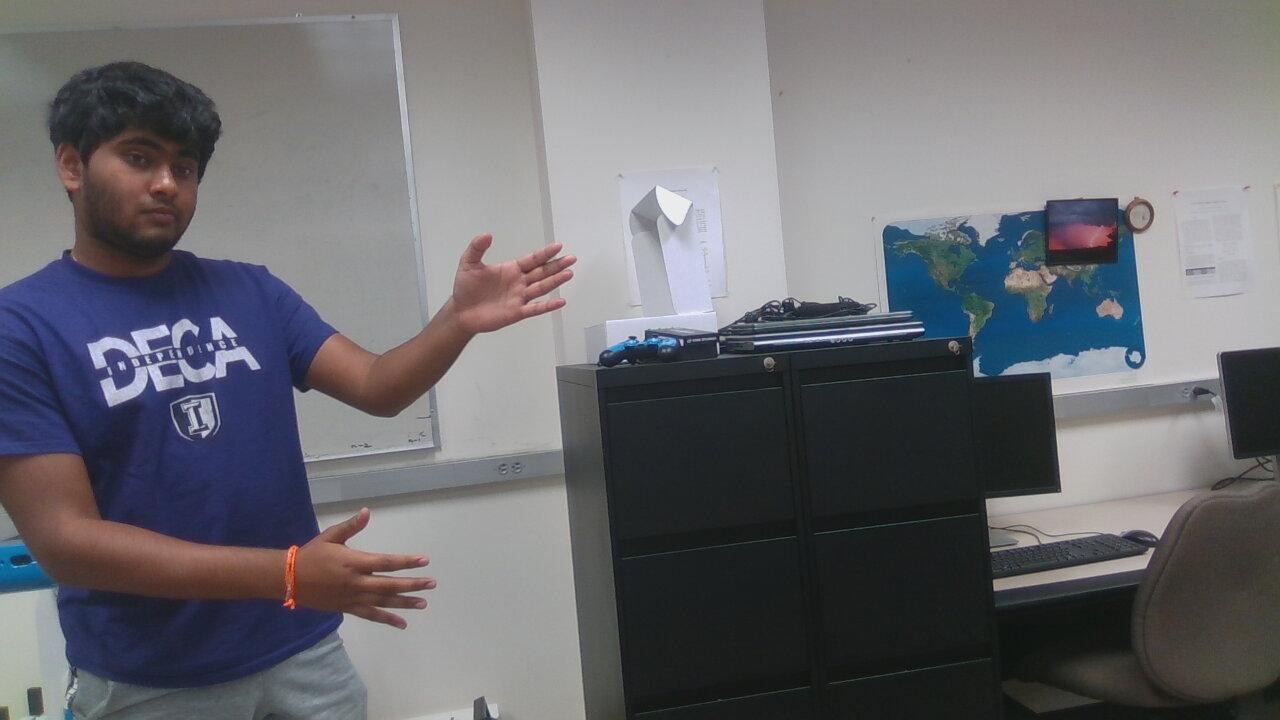hands: (281, 504, 449, 649), (443, 227, 579, 340)
